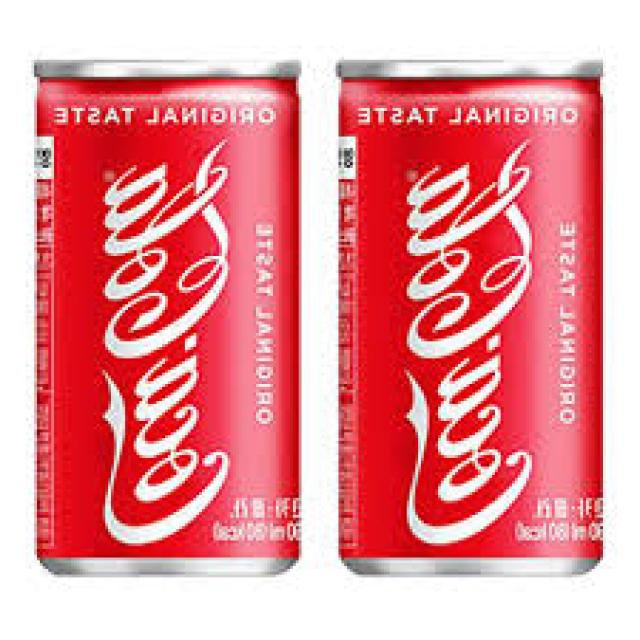Coca-Cola: (28, 44, 308, 587), (334, 45, 615, 583)
